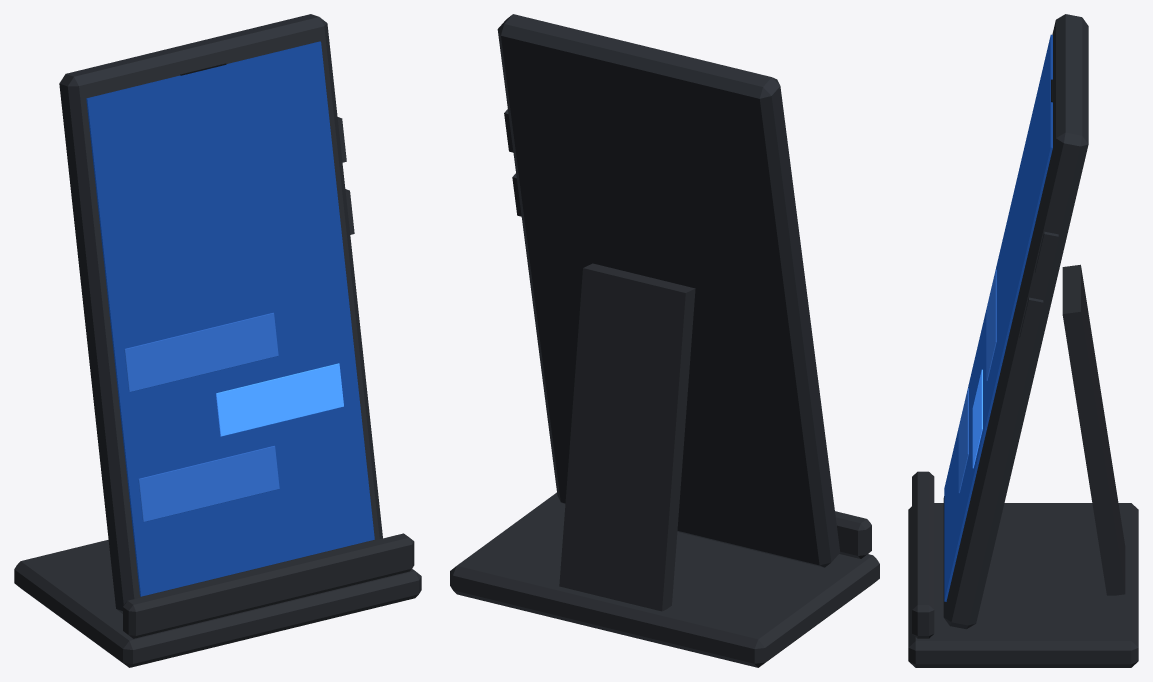
File: phone_stand.glb
3 renders of one model, left to right at view 1: azimuth 30°, elevation 25°; view 2: azimuth 150°, elevation 25°; view 3: azimuth 270°, elevation 25°, orthographic. The views are drawn at different scales.
Parts seen in each view (by area): view 1: screen, stand, phone; view 2: phone, stand; view 3: stand, phone, screen.
Boxes of the visible parts, x1,y1,x2,y2 form: screen: (86,41,374,596); stand: (14,533,421,667); phone: (59,14,382,613); phone: (497,14,840,567); stand: (450,263,879,667); stand: (908,264,1138,667); phone: (943,14,1088,629); screen: (944,34,1052,601).
Size of the model in its own units: 0.92 by 1.56 by 0.62.
